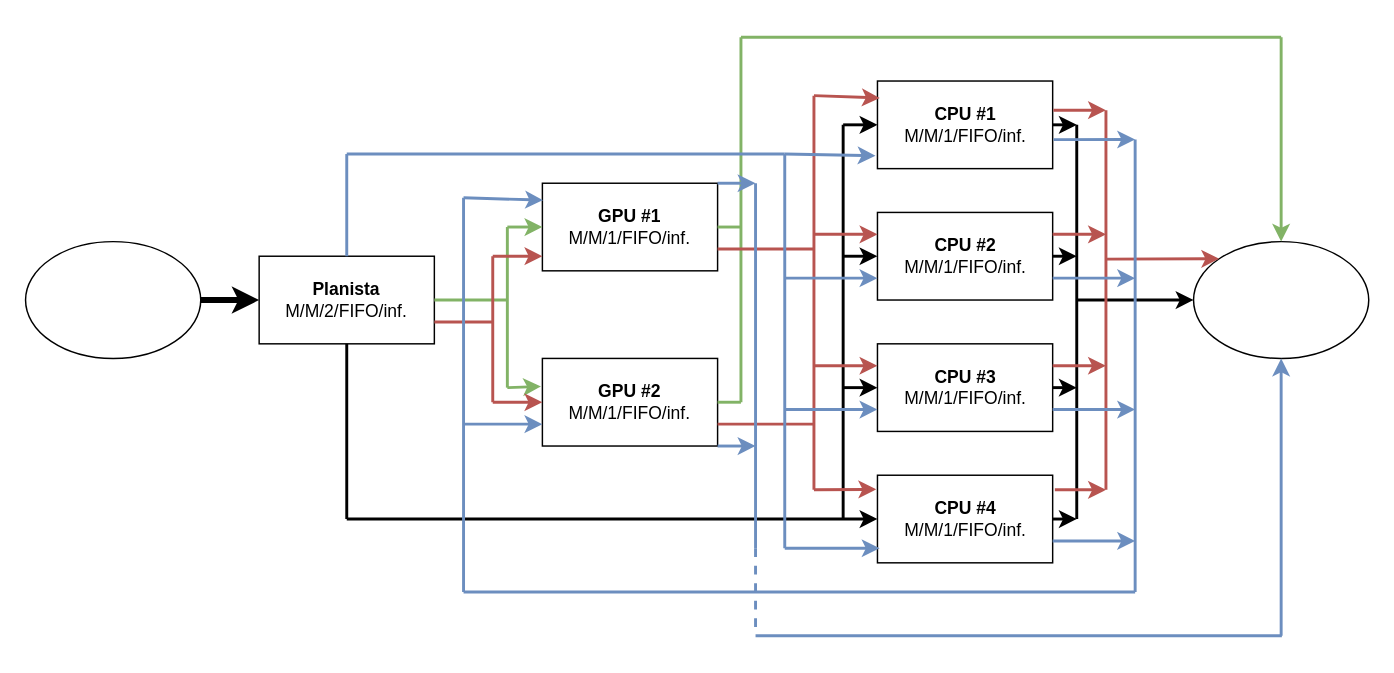
The diagram is 1394 pixels wide and 673 high, and some of its shapes have lost their labels. Each missing label, with the centre of its shape:
Wejście: [112,299]
Wyjście: [1280,299]
